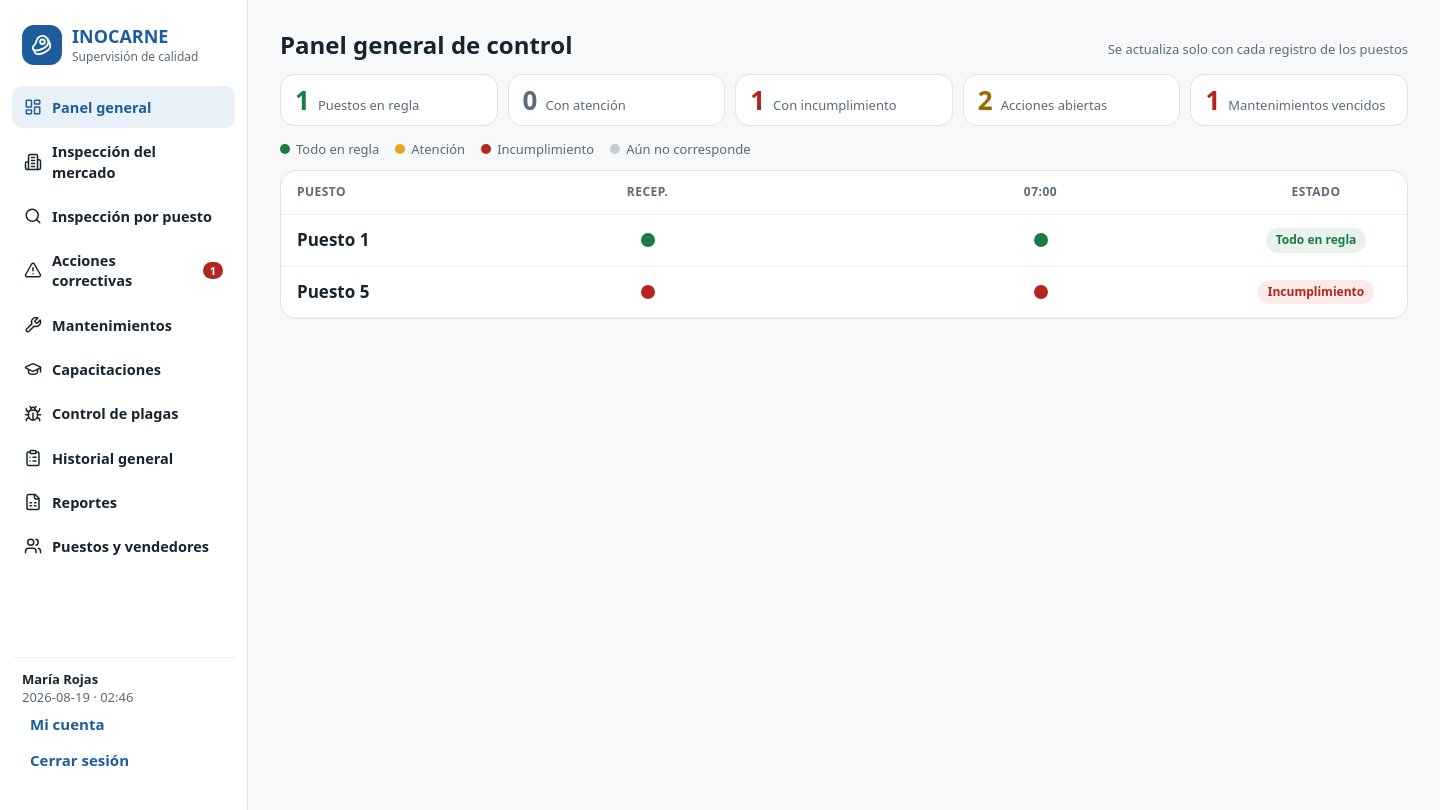
Test: panel general › al abrir un puesto explica exactamente qué falla
Expected: the heading "Panel general de control" is shown, [280,28,572,62]
Click the button "Puesto 5 Incumplimiento" at (333, 292), box [281,267,1407,318]
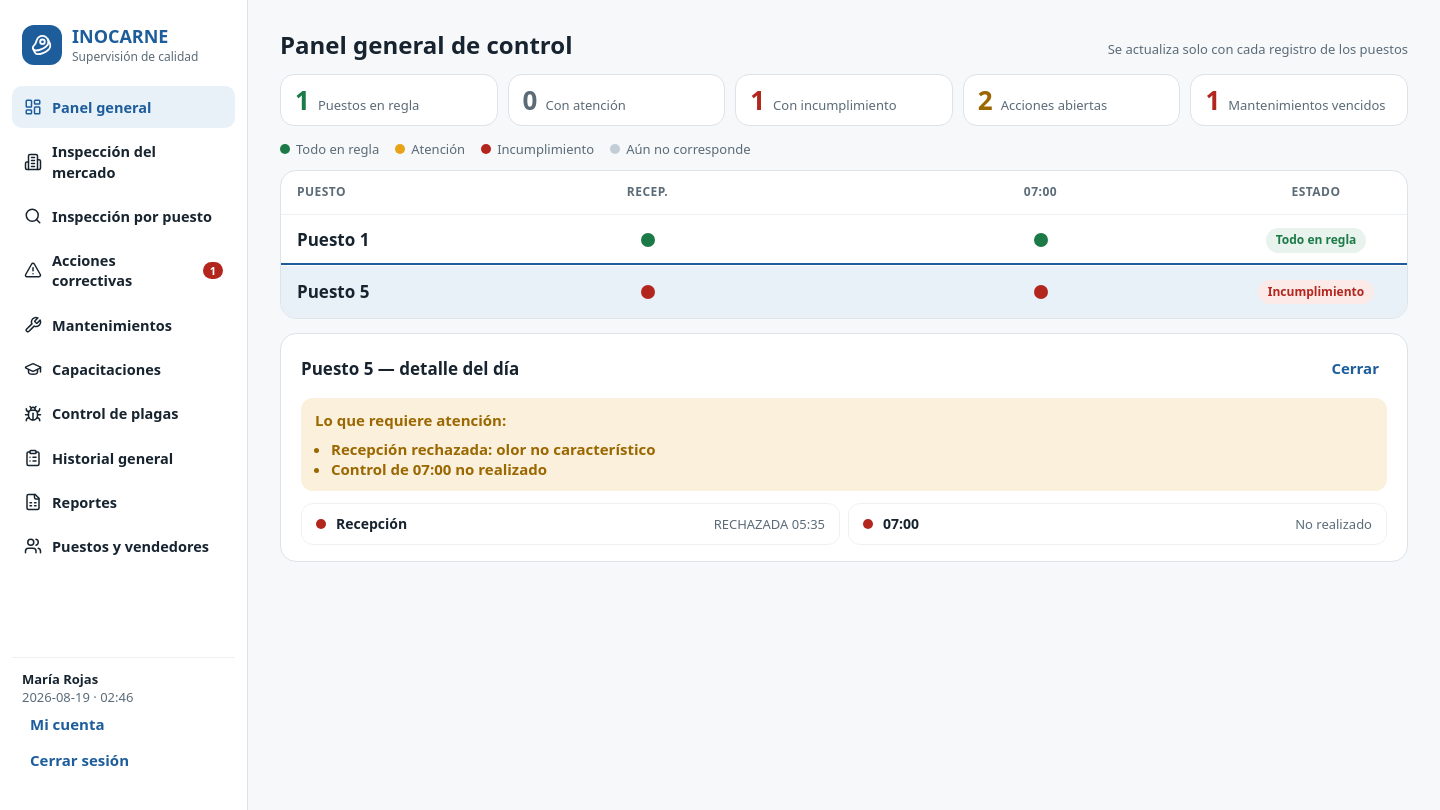
Now the heading "Puesto 5 — detalle del día" is shown, box [301,356,519,380]
Now the list item "Recepción rechazada: olor no característico" is shown, box [331,439,656,459]
Now the list item "Control de 07:00 no realizado" is shown, box [331,459,547,479]
